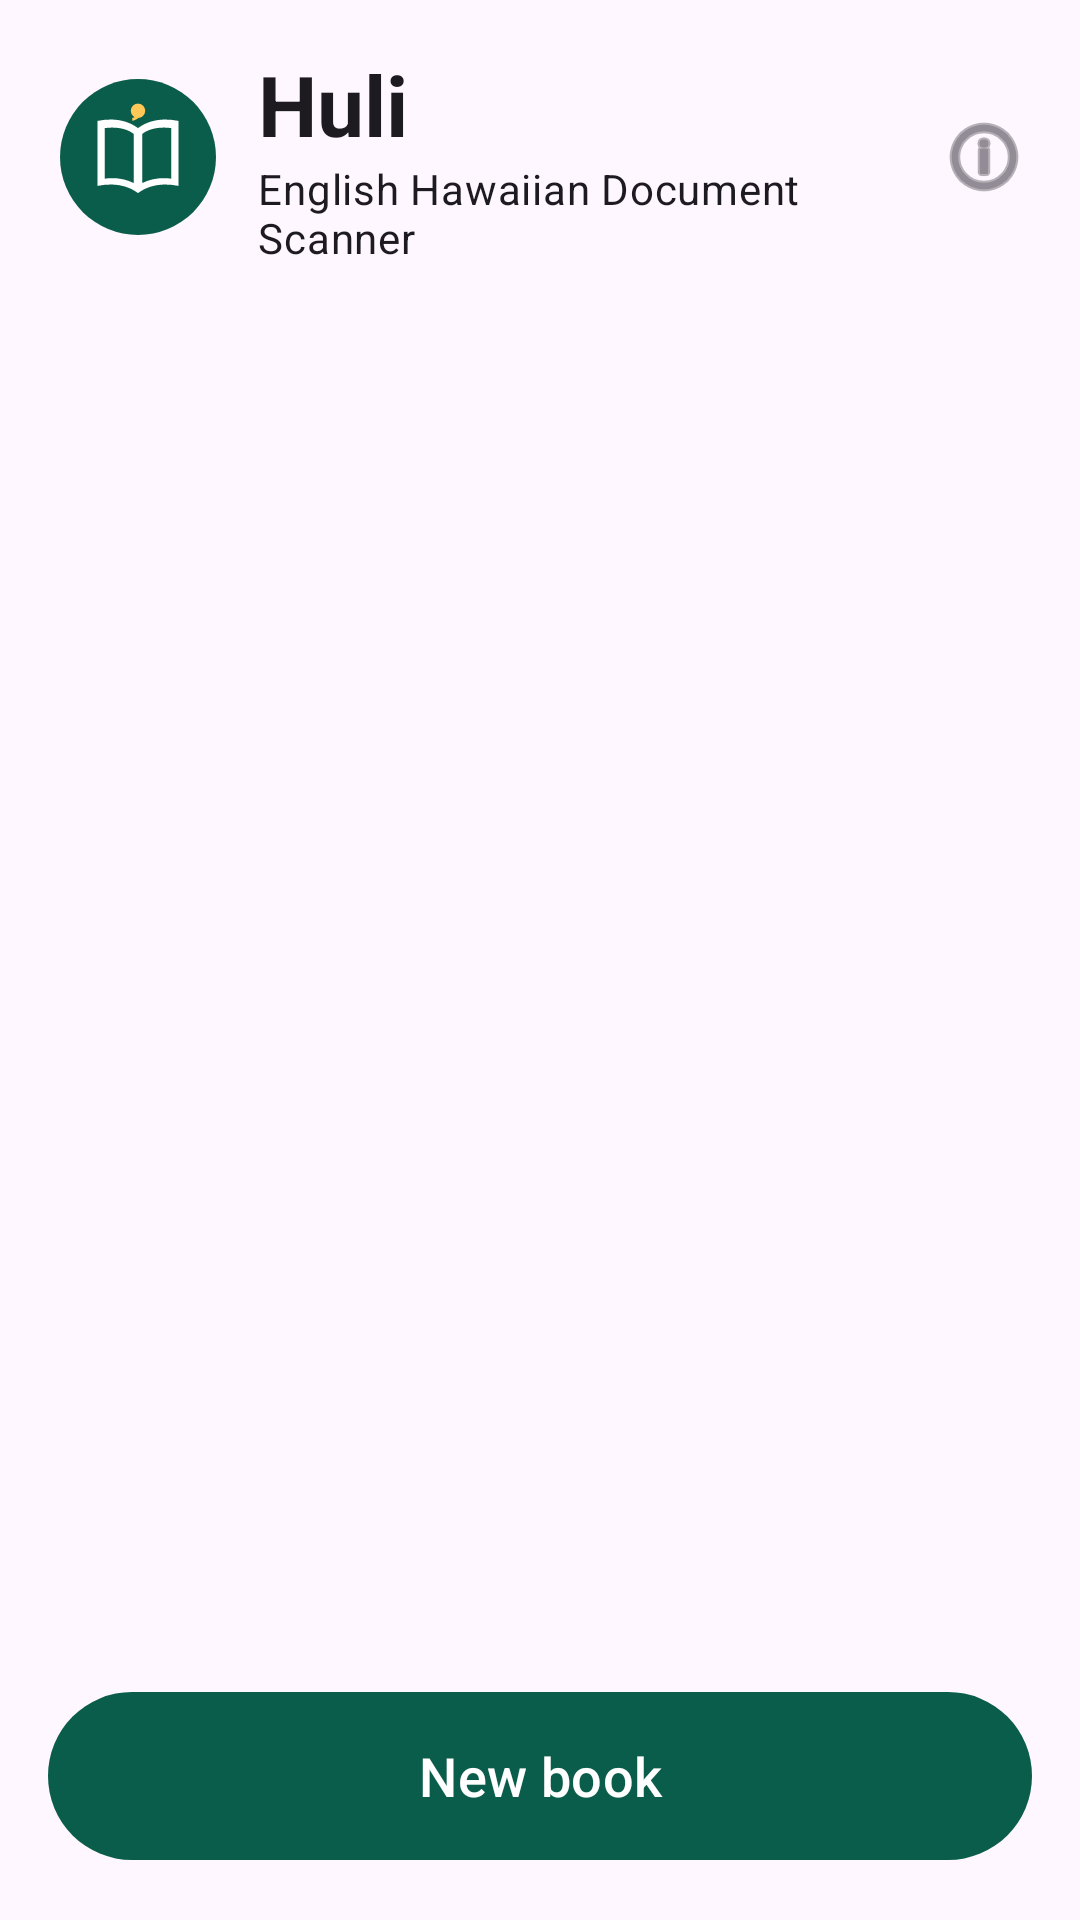

Point at icon controls on the screen. Image size 1080w x 1920h, points as (x,y).
About Huli: (984,157)
